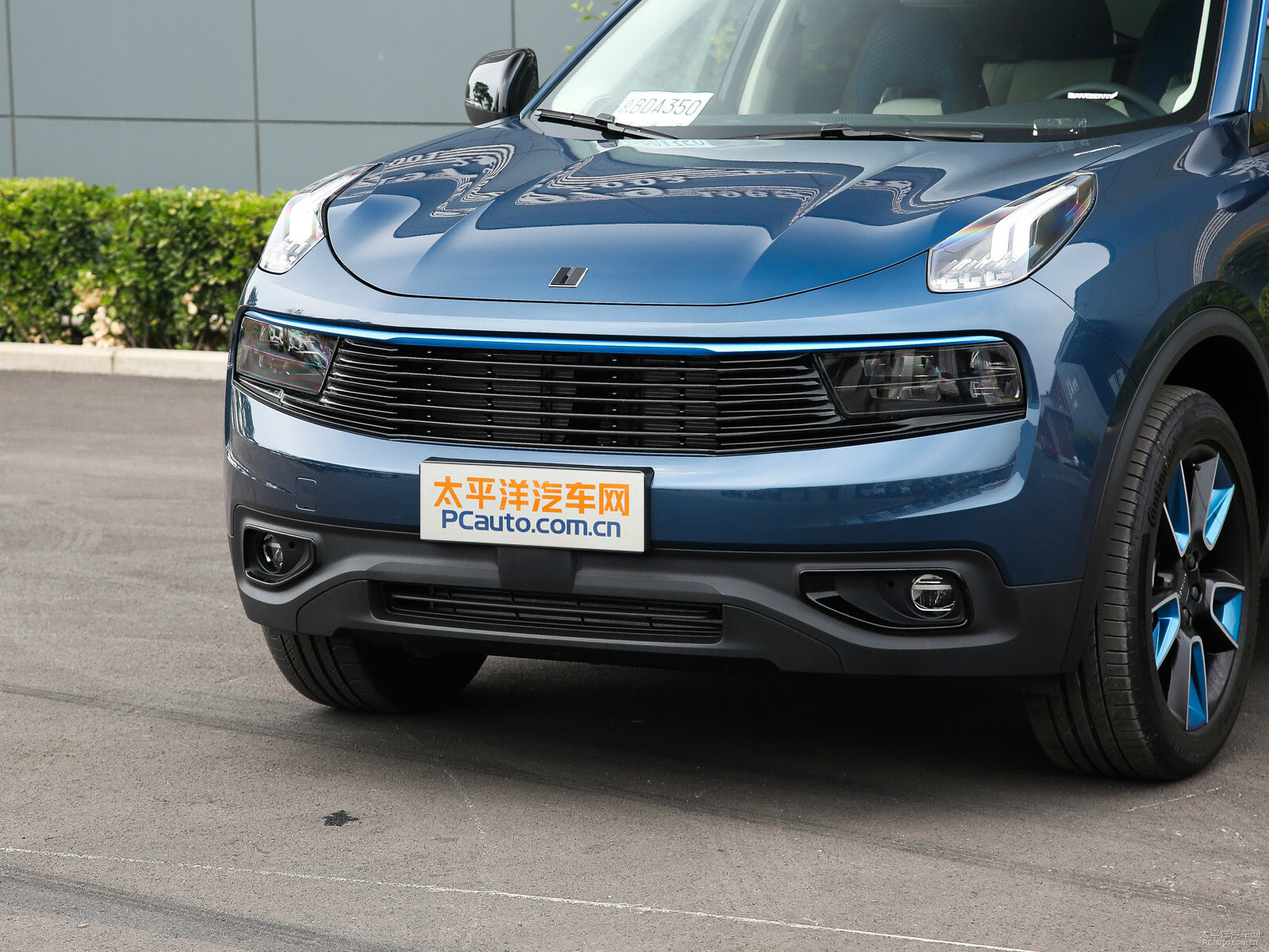LINK&CO: (549, 267, 588, 286)
